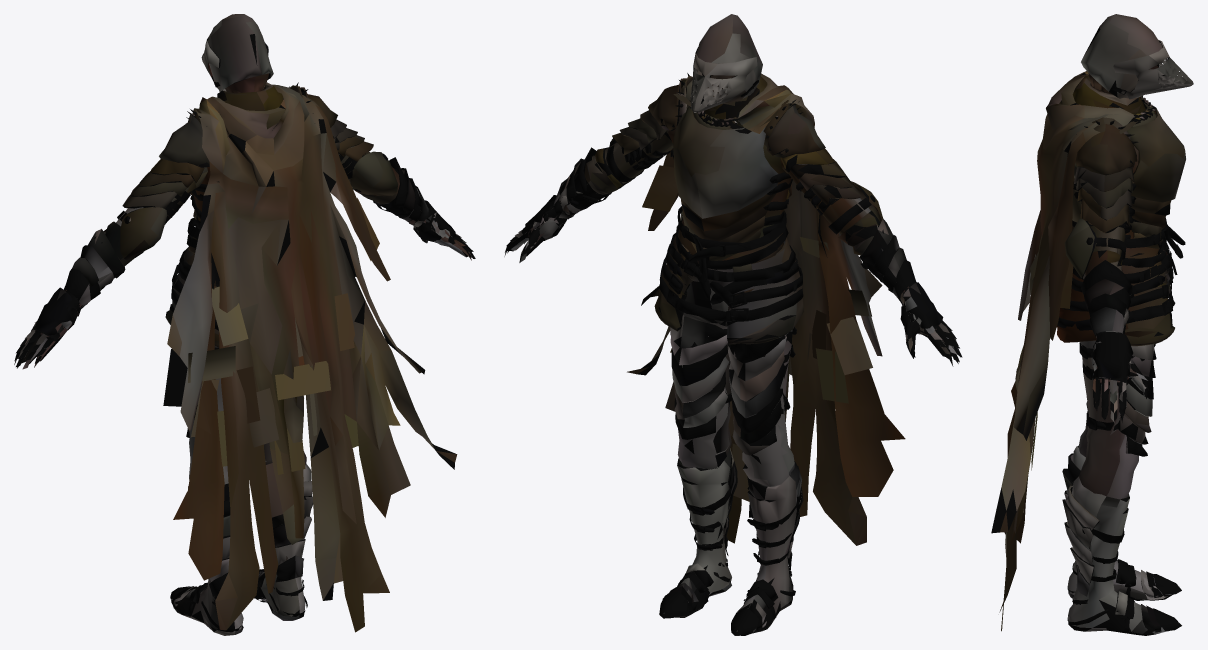
3 views of the same model, side by side, from view 1: azimuth 30°, elevation 25°; view 2: azimuth 150°, elevation 25°; view 3: azimuth 270°, elevation 25° (orthographic).
Visible parts, largest first — view 1: mesh_0; view 2: mesh_0; view 3: mesh_0.
Boxes of the visible parts, x1,y1,x2,y2 form: mesh_0: [14, 14, 475, 635]; mesh_0: [504, 14, 962, 635]; mesh_0: [991, 14, 1193, 635].
Bounding box in the file's own units: 58.09 × 72.37 × 22.22.
Materials: 1 (1 with a texture image).
